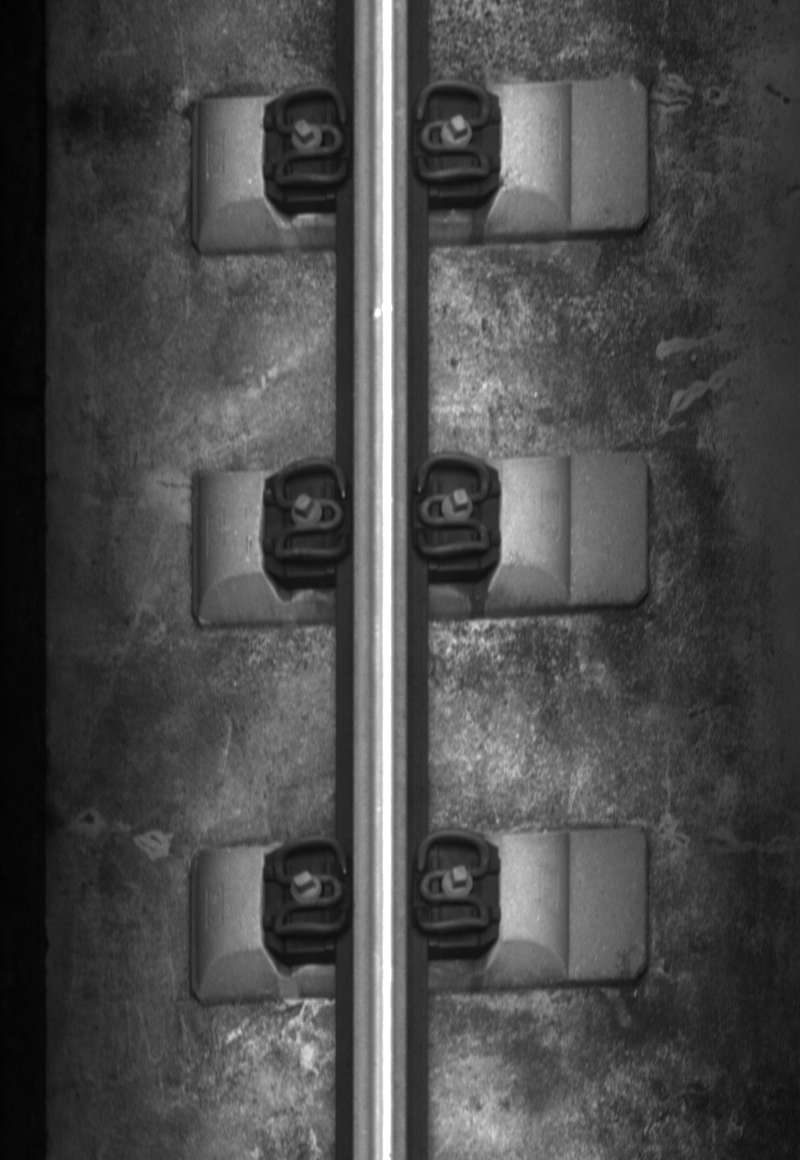l_faster: (266, 81, 352, 195), (267, 453, 352, 567), (267, 832, 351, 944)
r_faster: (408, 824, 497, 940), (411, 78, 495, 187), (413, 450, 493, 560)
